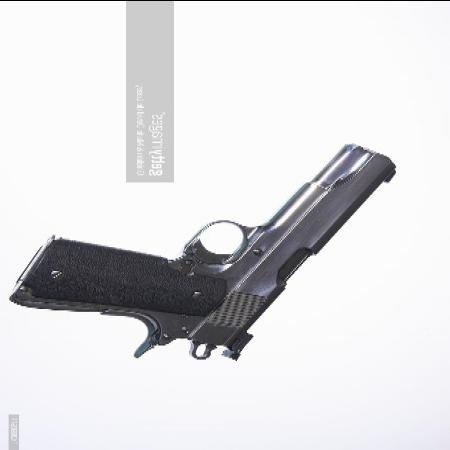Pistol: (11, 142, 399, 368)
